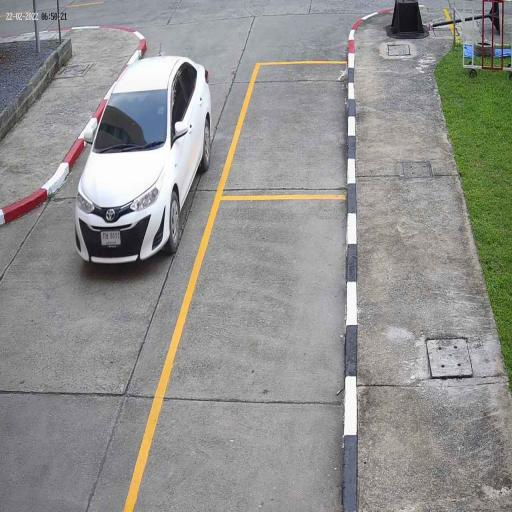car: (70, 54, 216, 270)
